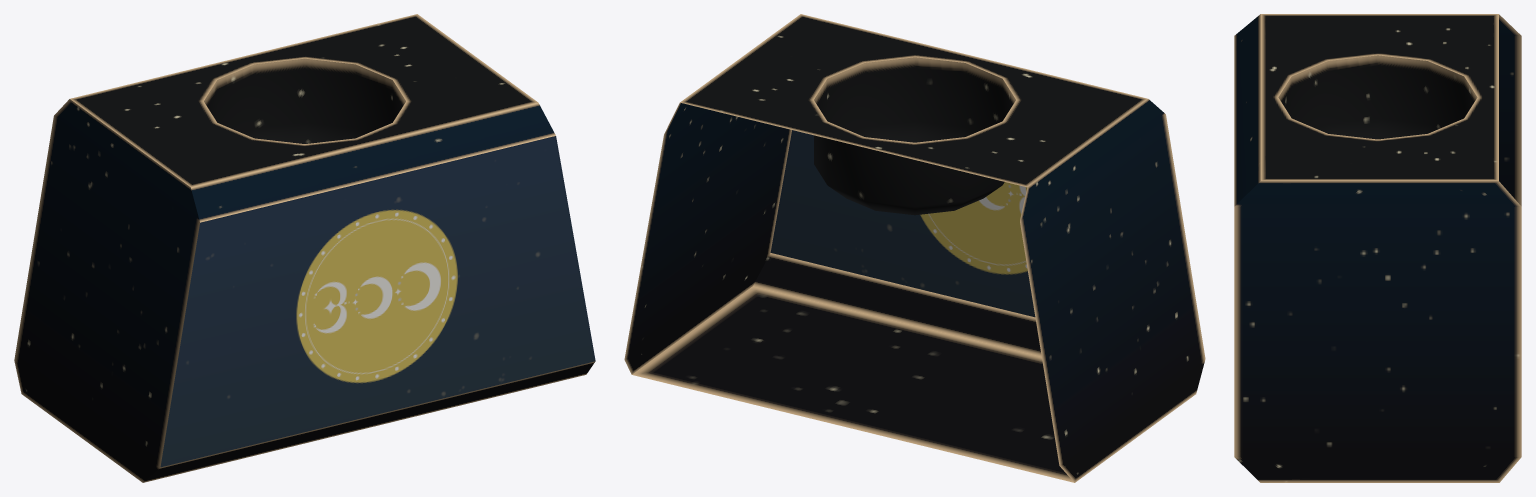
The model's file is donuts_300pt.fbx.
The picture shows the model from 3 angles, left to right: view 1: azimuth 30°, elevation 25°; view 2: azimuth 150°, elevation 25°; view 3: azimuth 270°, elevation 25°; orthographic projection.
Parts seen in each view (by area): view 1: donuts_300pt; view 2: donuts_300pt; view 3: donuts_300pt.
Boxes of the visible parts, x1,y1,x2,y2 form: donuts_300pt: (14, 14, 595, 482); donuts_300pt: (624, 14, 1205, 482); donuts_300pt: (1234, 14, 1521, 482).
Size of the model in its own units: 3.19 by 1.95 by 1.82.
